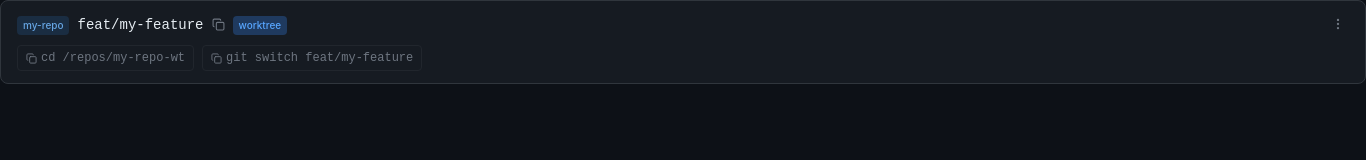
Test: BranchCard — worktree branch › WHEN more-actions clicked THEN shows Remove worktree, not Delete branch
What coordinates should you click on to do the following:
click the button titled "More actions"
I would click on:
 (1338, 24)
Its box is [1327,13,1349,35].
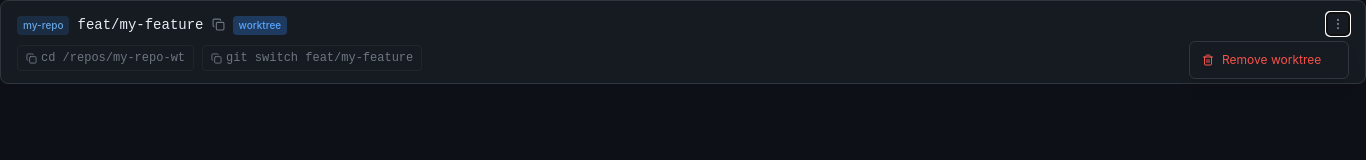
Expected: the button "Remove worktree" is shown, [1190,46,1348,74]
